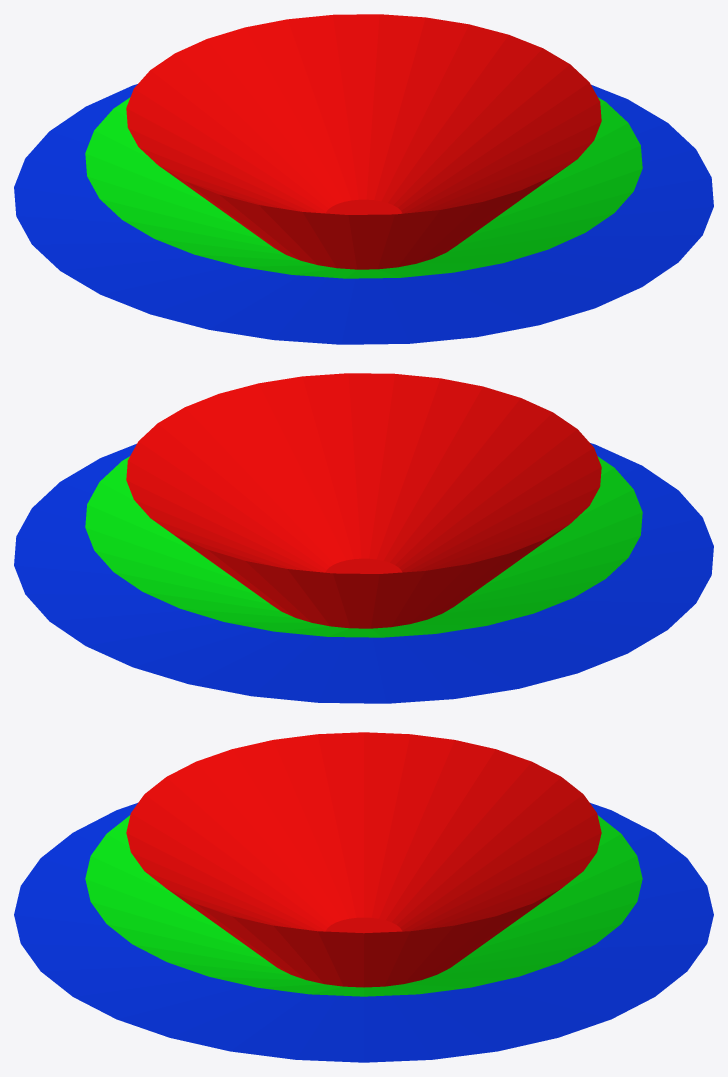
Rendered from spawn.fbx.
The picture shows the model from 3 angles, top to bottom: view 1: azimuth 30°, elevation 25°; view 2: azimuth 150°, elevation 25°; view 3: azimuth 270°, elevation 25°; orthographic projection.
Visible parts, largest first — view 1: Cylinder; view 2: Cylinder; view 3: Cylinder.
Part boxes in pixels (x1=…): Cylinder: x1=14, y1=14, x2=713, y2=344; Cylinder: x1=14, y1=373, x2=713, y2=703; Cylinder: x1=14, y1=732, x2=713, y2=1062.
Bounding box in the file's own units: 337 × 58.82 × 337.
